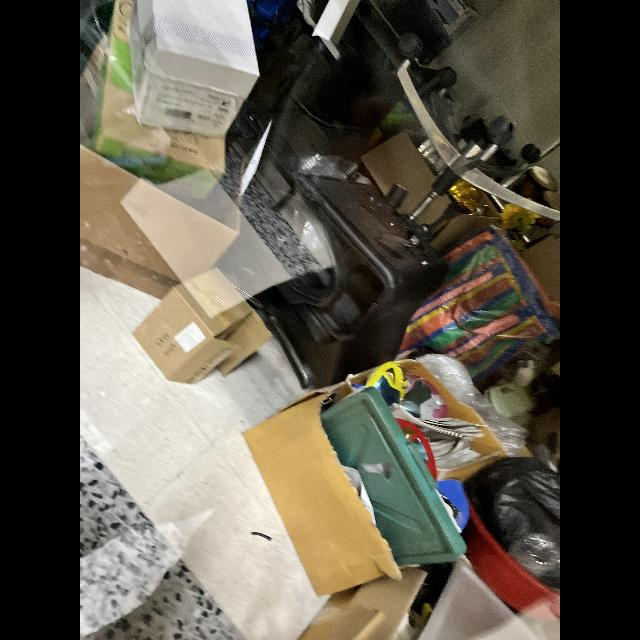cardboard_box: (242, 390, 400, 598), (80, 115, 244, 303), (90, 0, 234, 192), (120, 0, 266, 140), (129, 262, 275, 392)
